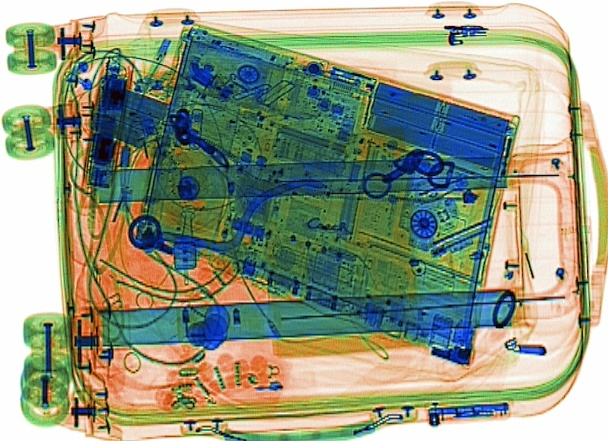powerbank: (83, 74, 184, 157)
